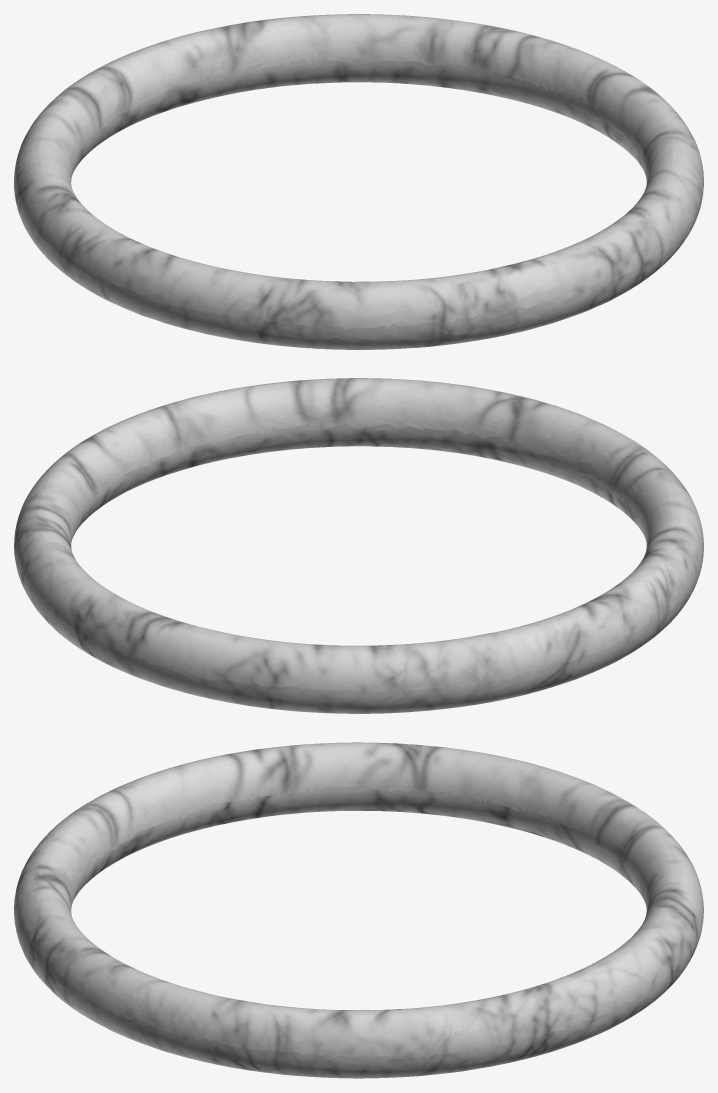
File: ring_marble.glb
3 views of the same model, one above another, from view 1: azimuth 30°, elevation 25°; view 2: azimuth 150°, elevation 25°; view 3: azimuth 270°, elevation 25° (orthographic).
Size of the model in its own units: 1.9 by 0.1944 by 1.9.
1 material, 1 textured.
